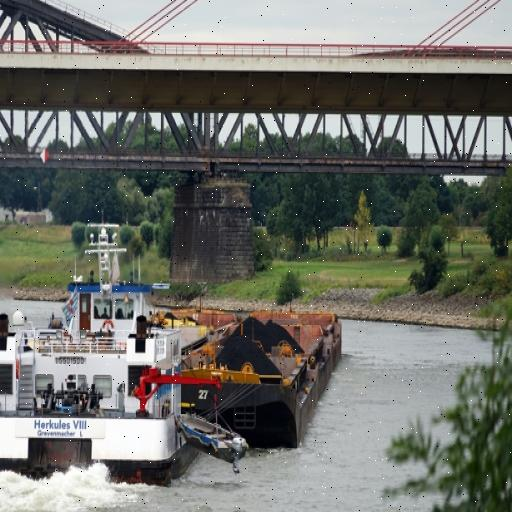tugboat: (1, 216, 204, 500)
